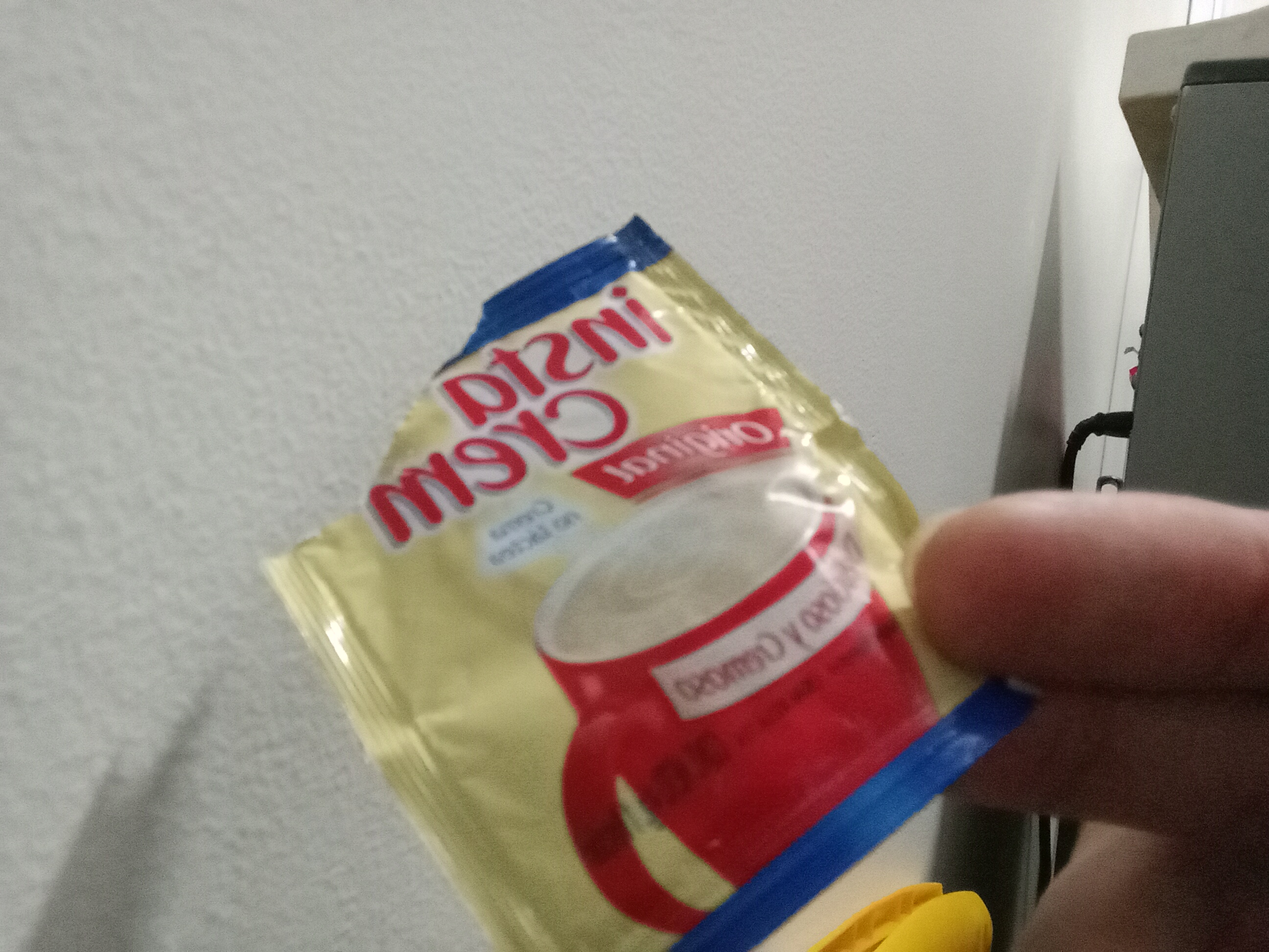Ordinario: (259, 216, 1037, 952)
